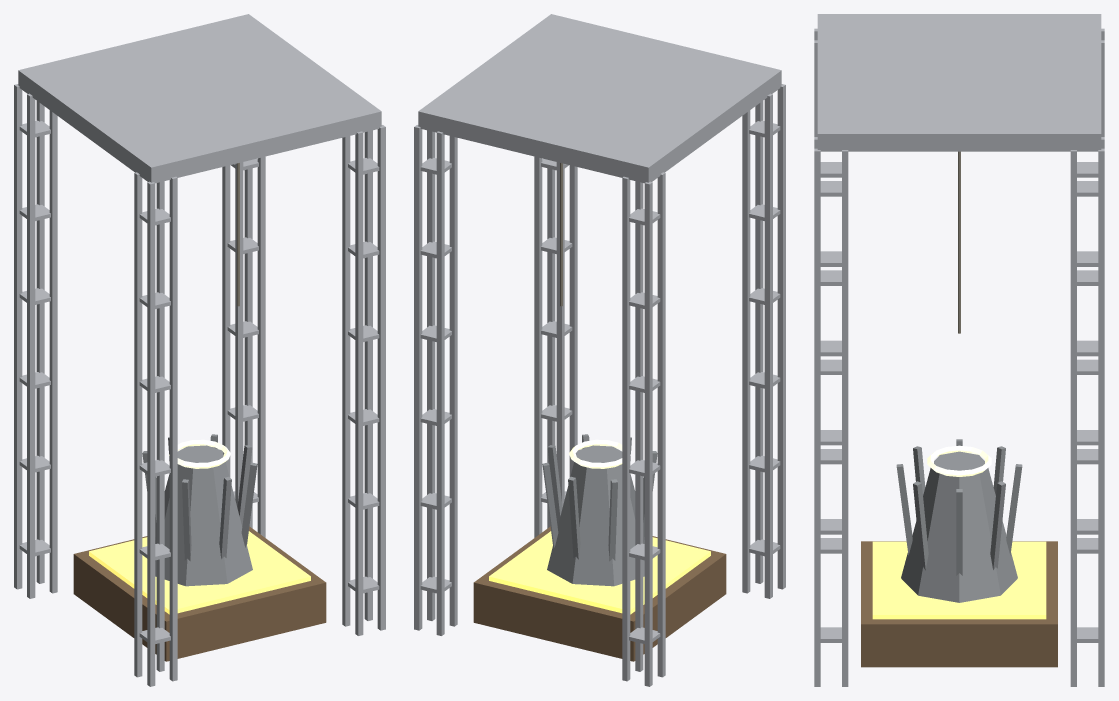
Rendered from 13_fleche_hoist.glb.
The picture shows the model from 3 angles, left to right: view 1: azimuth 30°, elevation 25°; view 2: azimuth 150°, elevation 25°; view 3: azimuth 270°, elevation 25°; orthographic projection. The views are drawn at different scales.
Visible parts, largest first — view 1: 13_fleche_hoist_root_steel_nocol, 13_fleche_hoist_root_oak, fleche_segment_body, fleche_hoist_cradle_signal, 13_fleche_hoist_flechesegment_lead_nocol, 13_fleche_hoist_flechesegment_gold_nocol; view 2: 13_fleche_hoist_root_steel_nocol, 13_fleche_hoist_root_oak, fleche_segment_body, fleche_hoist_cradle_signal, 13_fleche_hoist_flechesegment_lead_nocol, 13_fleche_hoist_flechesegment_gold_nocol; view 3: 13_fleche_hoist_root_steel_nocol, 13_fleche_hoist_root_oak, fleche_segment_body, fleche_hoist_cradle_signal, 13_fleche_hoist_flechesegment_lead_nocol, 13_fleche_hoist_flechesegment_gold_nocol, 13_fleche_hoist_root_rope_nocol.
Boxes of the visible parts, box(x1,y1,x2,y2) form: 13_fleche_hoist_root_steel_nocol: box(14, 14, 385, 686); 13_fleche_hoist_root_oak: box(73, 526, 326, 661); fleche_segment_body: box(155, 445, 252, 586); fleche_hoist_cradle_signal: box(89, 531, 310, 614); 13_fleche_hoist_flechesegment_lead_nocol: box(142, 434, 257, 561); 13_fleche_hoist_flechesegment_gold_nocol: box(169, 439, 230, 468); 13_fleche_hoist_root_steel_nocol: box(414, 14, 785, 686); 13_fleche_hoist_root_oak: box(473, 526, 726, 661); fleche_segment_body: box(547, 445, 644, 586); fleche_hoist_cradle_signal: box(489, 531, 710, 614); 13_fleche_hoist_flechesegment_lead_nocol: box(542, 434, 657, 561); 13_fleche_hoist_flechesegment_gold_nocol: box(569, 439, 630, 468); 13_fleche_hoist_root_steel_nocol: box(814, 14, 1104, 686); 13_fleche_hoist_root_oak: box(861, 541, 1057, 667); fleche_segment_body: box(901, 451, 1017, 602); fleche_hoist_cradle_signal: box(872, 541, 1046, 619); 13_fleche_hoist_flechesegment_lead_nocol: box(896, 439, 1022, 575); 13_fleche_hoist_flechesegment_gold_nocol: box(927, 445, 991, 476); 13_fleche_hoist_root_rope_nocol: box(958, 151, 960, 333).
Bounding box in the file's own units: 14.72 × 30.9 × 14.72.
